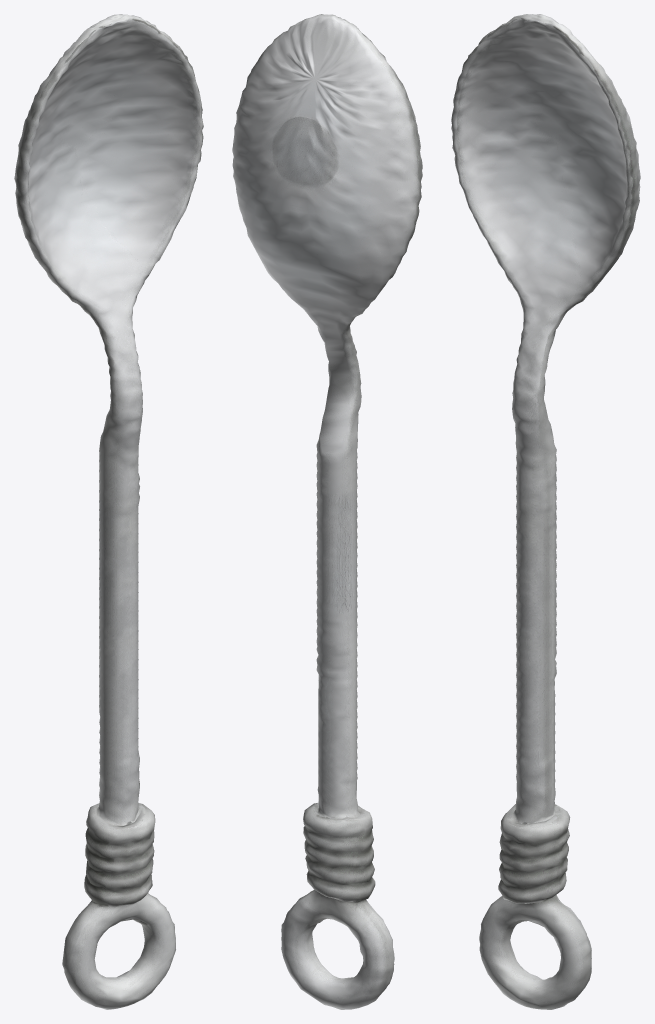
Rendered from como_spoon_0308230215_texture.glb.
The picture shows the model from 3 angles, left to right: view 1: azimuth 30°, elevation 25°; view 2: azimuth 150°, elevation 25°; view 3: azimuth 330°, elevation 25°; orthographic projection.
Parts seen in each view (by area): view 1: Mesh_0.002; view 2: Mesh_0.002; view 3: Mesh_0.002.
Boxes of the visible parts, x1,y1,x2,y2 form: Mesh_0.002: [14, 14, 203, 1009]; Mesh_0.002: [232, 14, 422, 1009]; Mesh_0.002: [451, 14, 640, 1009].
Bounding box in the file's own units: 0.0396 × 0.2032 × 0.0221.
1 material, 1 textured.
